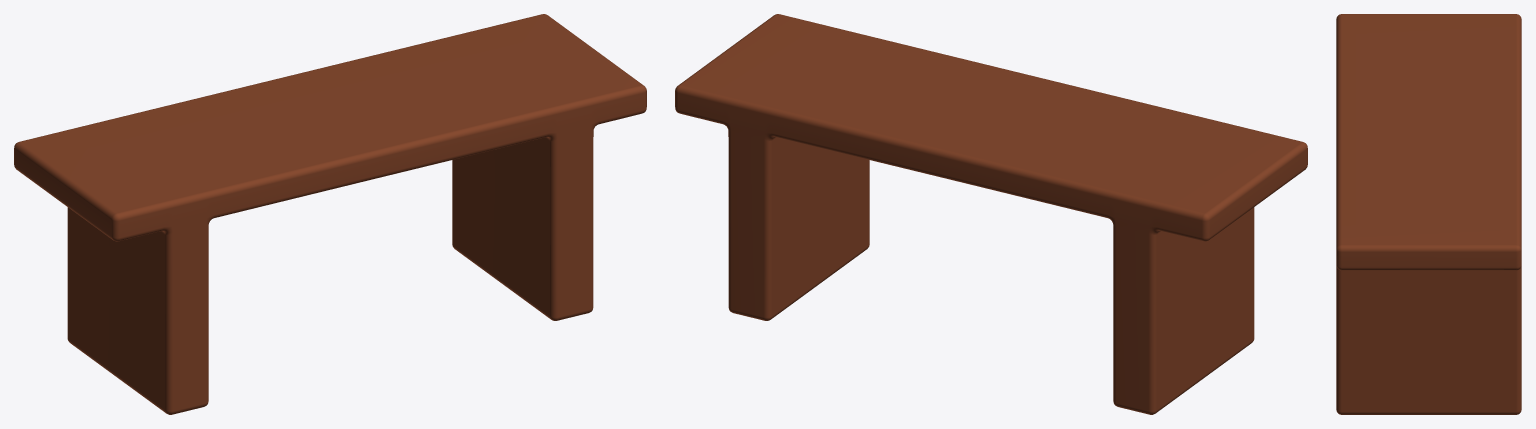
Rendered from Bench.fbx.
3 views of the same model, side by side, from view 1: azimuth 30°, elevation 25°; view 2: azimuth 150°, elevation 25°; view 3: azimuth 270°, elevation 25° (orthographic). The views are drawn at different scales.
Visible parts, largest first — view 1: Bench; view 2: Bench; view 3: Bench.
Boxes of the visible parts, bbox=[...] form: Bench: bbox=[14, 14, 646, 414]; Bench: bbox=[675, 14, 1307, 414]; Bench: bbox=[1336, 14, 1521, 414].
Bounding box in the file's own units: 6 × 2.3 × 2.
